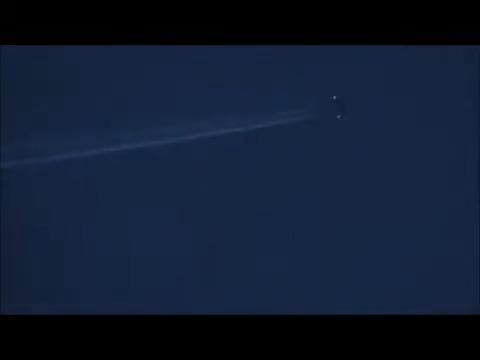Plane: (36, 93, 379, 173)
